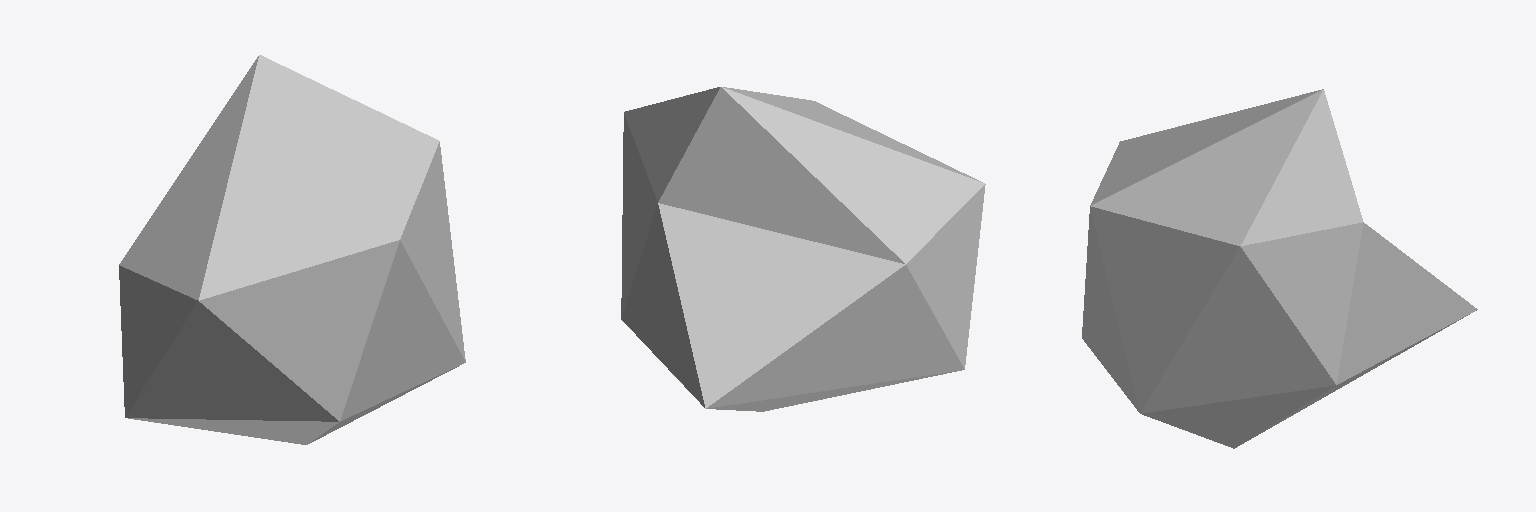
Rendered from Asteroid.obj.
The picture shows the model from 3 angles: view 1: azimuth 30°, elevation 25°; view 2: azimuth 150°, elevation 25°; view 3: azimuth 270°, elevation 25°; orthographic projection.
Visible parts, largest first — view 1: Icosphere; view 2: Icosphere; view 3: Icosphere.
Part boxes in pixels (x1,y1,x2,y2): Icosphere: (119, 55, 465, 444); Icosphere: (621, 87, 985, 411); Icosphere: (1082, 89, 1477, 448).
Size of the model in its own units: 2.11 by 2.21 by 2.21.